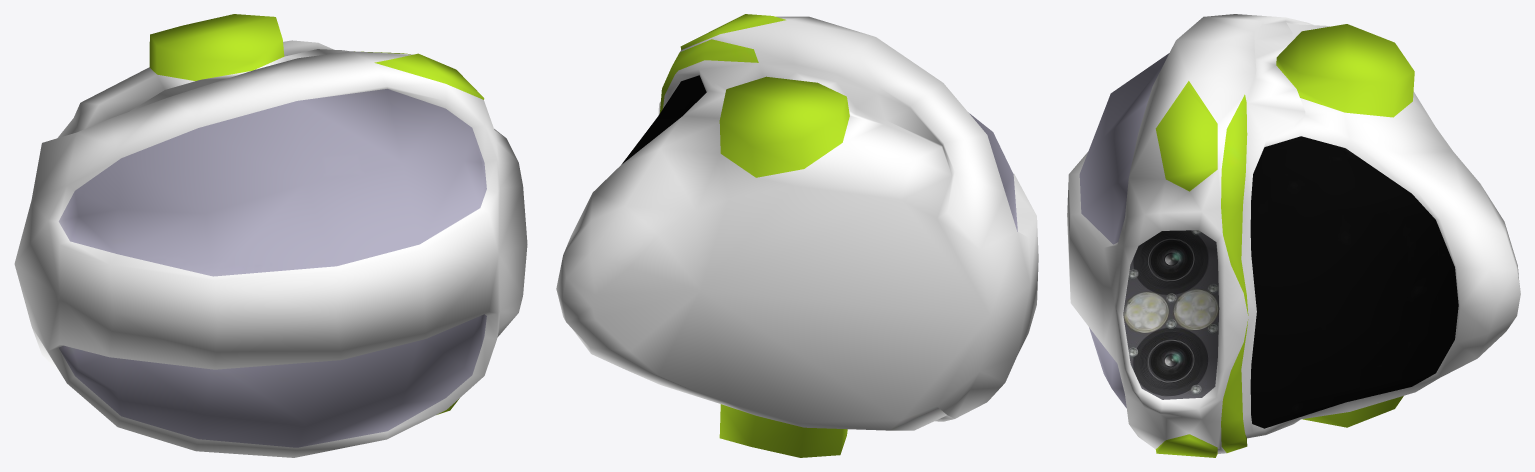
Rendered from head_multisense_jpg.dae.
The picture shows the model from 3 angles, left to right: view 1: azimuth 30°, elevation 25°; view 2: azimuth 150°, elevation 25°; view 3: azimuth 270°, elevation 25°; orthographic projection. The views are drawn at different scales.
Parts seen in each view (by area): view 1: head_multisense; view 2: head_multisense; view 3: head_multisense.
Part boxes in pixels (bbox=[...]): head_multisense: bbox=[14, 14, 527, 457]; head_multisense: bbox=[556, 14, 1038, 457]; head_multisense: bbox=[1067, 14, 1520, 457].
Bounding box in the file's own units: 0.2895 × 0.2858 × 0.2532.
Materials: 1 (1 with a texture image).
